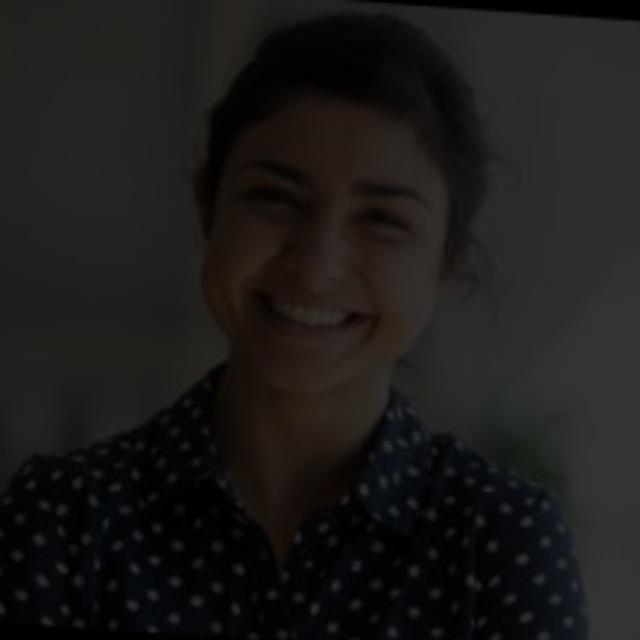Happy: (170, 81, 450, 413)
